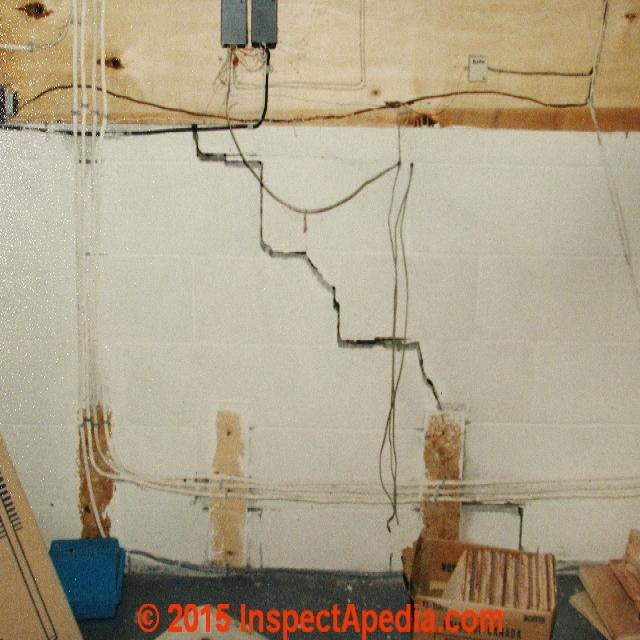Crack: (190, 126, 442, 406), (463, 495, 525, 548)
